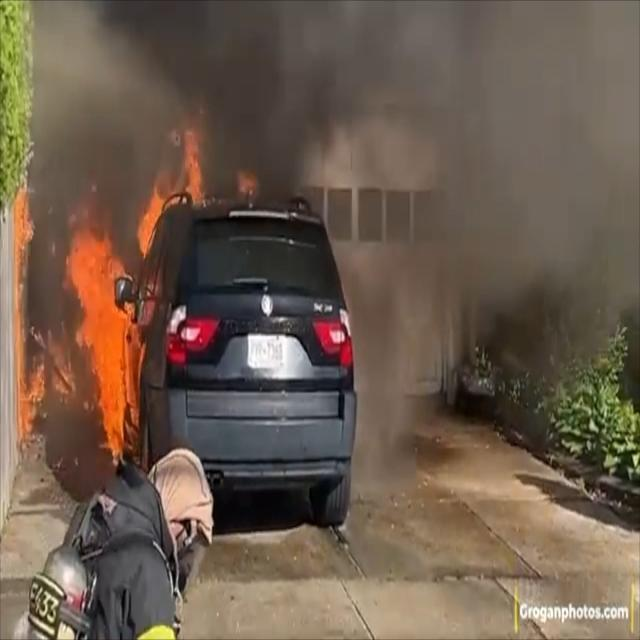fire: (12, 91, 222, 466)
